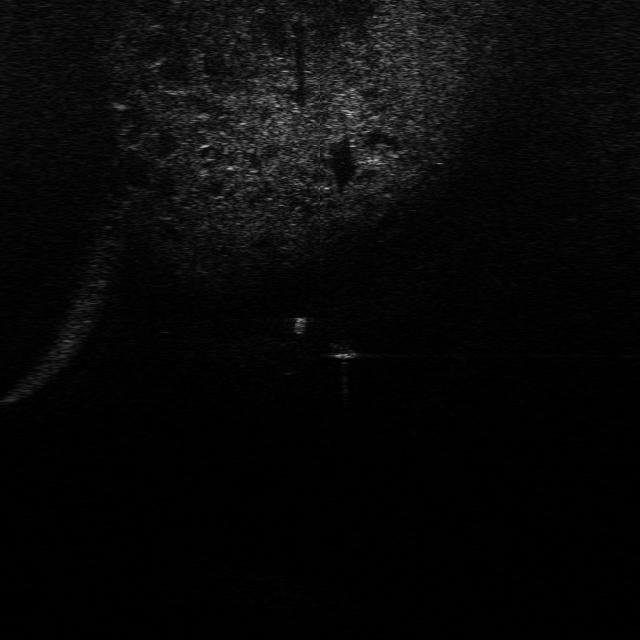cube: (322, 337, 362, 362)
cylinder: (288, 313, 311, 338)
